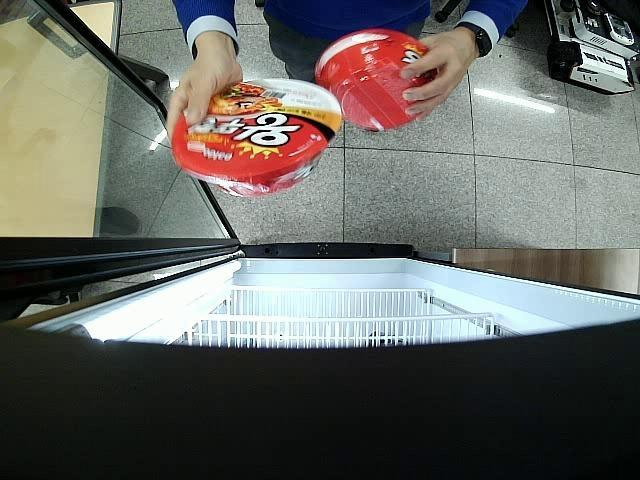10_wangTtukkeong: (172, 77, 342, 198), (316, 29, 440, 132)
